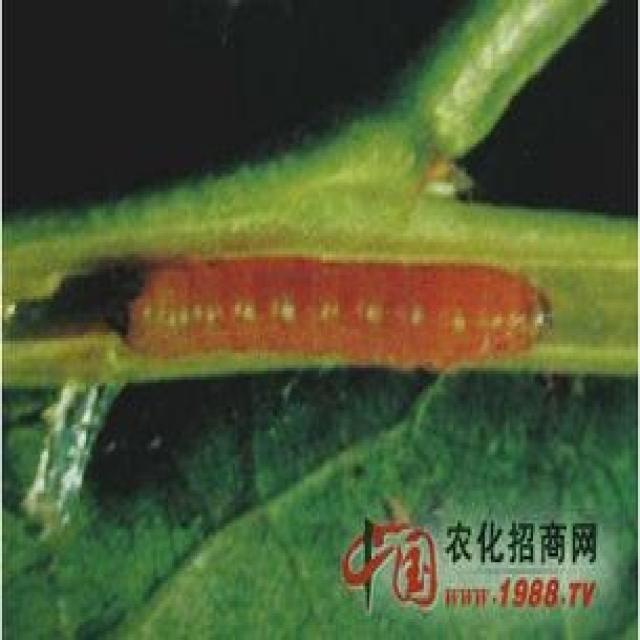peach borer: (120, 255, 567, 357)
